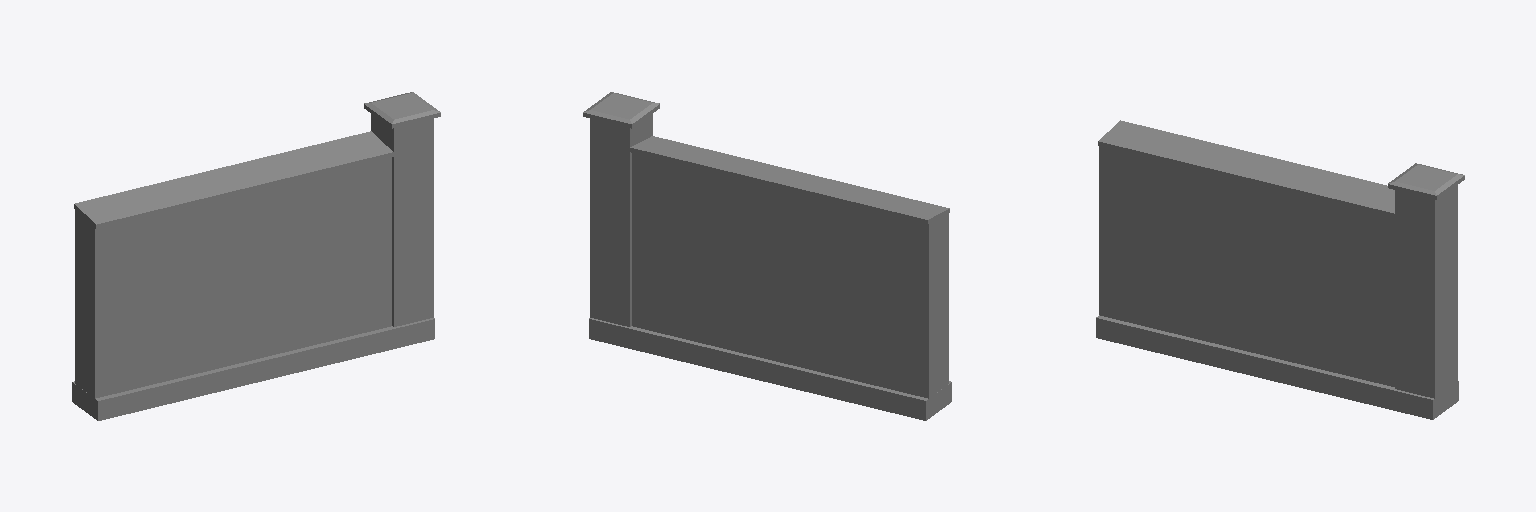
File: wall_front.obj
3 views of the same model, side by side, from view 1: azimuth 30°, elevation 25°; view 2: azimuth 150°, elevation 25°; view 3: azimuth 330°, elevation 25° (orthographic).
Visible parts, largest first — view 1: zed_vepredu_10061_Wall_SG_V2_Iterations-2.001; view 2: zed_vepredu_10061_Wall_SG_V2_Iterations-2.001; view 3: zed_vepredu_10061_Wall_SG_V2_Iterations-2.001.
Part boxes in pixels (left/top/right/bottom): zed_vepredu_10061_Wall_SG_V2_Iterations-2.001: left=72, top=92, right=440, bottom=420; zed_vepredu_10061_Wall_SG_V2_Iterations-2.001: left=583, top=92, right=951, bottom=420; zed_vepredu_10061_Wall_SG_V2_Iterations-2.001: left=1096, top=120, right=1464, bottom=419.
Bounding box in the file's own units: 4.16 × 2.65 × 0.5991.